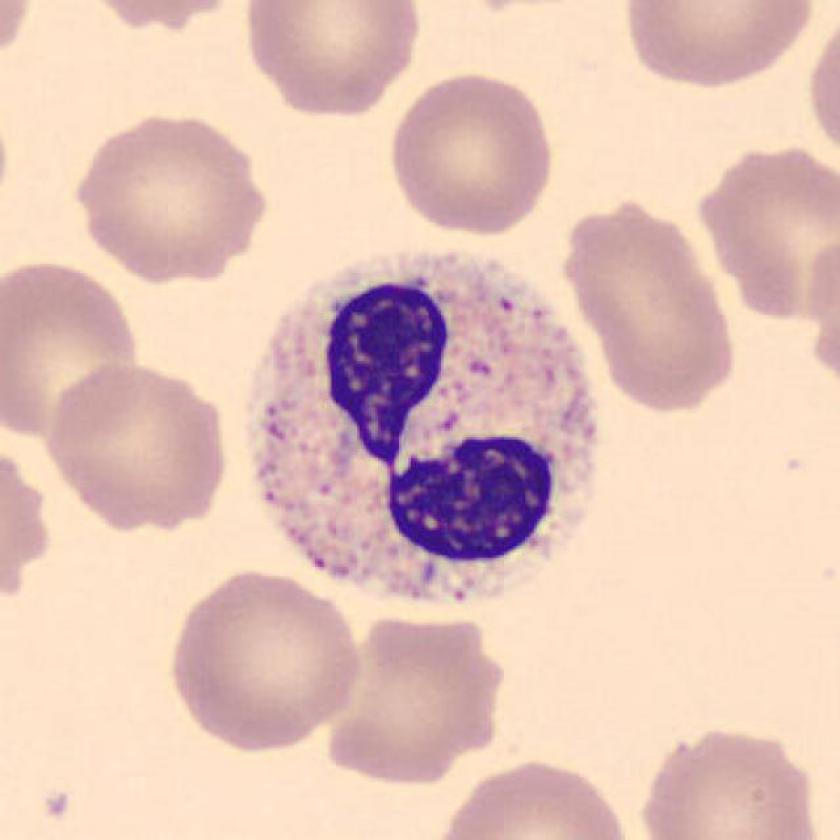neutrophil: (255, 250, 596, 606)
